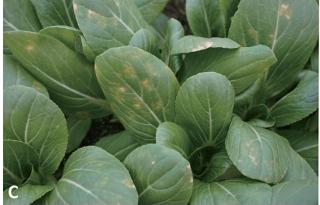Bok-Choy-Diseased: (87, 42, 183, 146), (231, 0, 298, 69), (227, 115, 297, 180), (69, 0, 150, 53)
